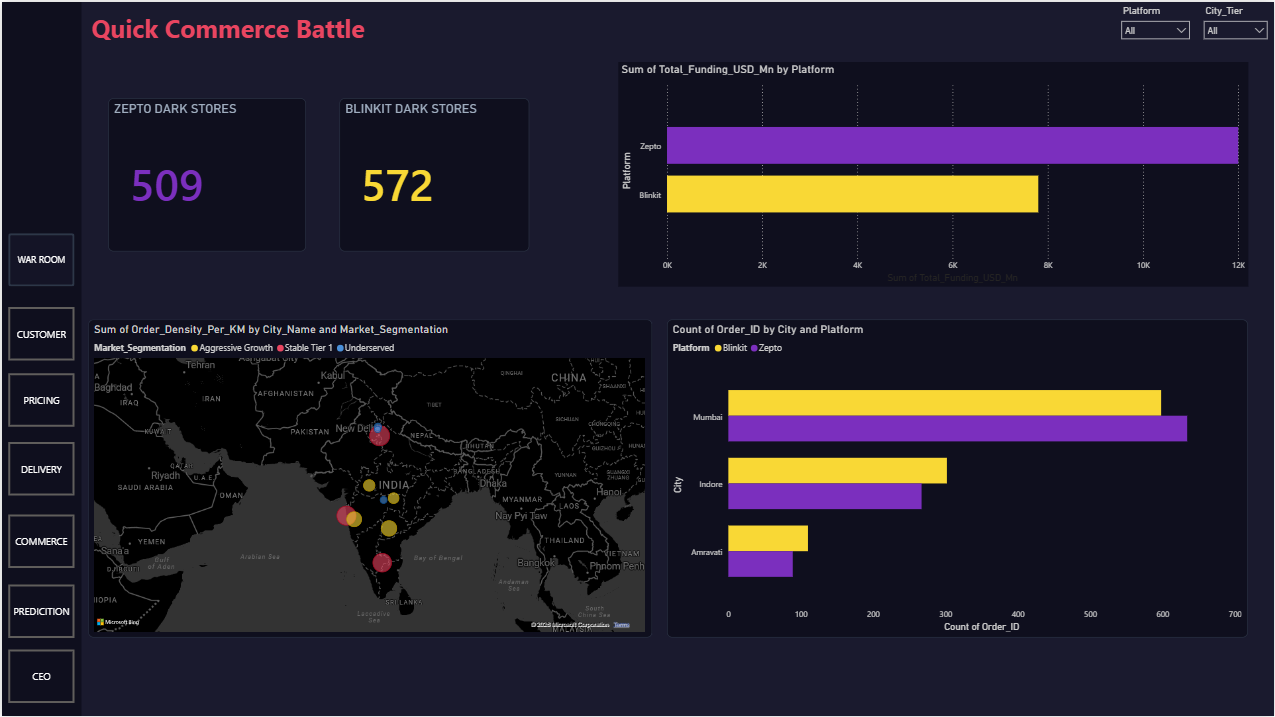

This screenshot's page, from the dashboard's own definition file:
{"tool":"powerbi","page":{"name":"05 Quick Commerce Battle","canvas":[1920,1080],"ordinal":4},"visuals":[{"type":"shape","box":[0,0,120,1080],"z":0},{"type":"slicer","fields":{"Values":["3_delivery_ops_cleaned.City_Tier"]},"box":[1803.3,0,116.7,66.7],"z":1000},{"type":"slicer","fields":{"Values":["3_delivery_ops_cleaned.Platform"]},"box":[1680,0,123.3,66.7],"z":2000},{"type":"textbox","box":[129.4,9.8,800,80.4],"z":3000},{"type":"cardVisual","title":"ZEPTO DARK STORES","fields":{"Data":["Sum(4_company_growth.Dark_Stores_Count)"]},"box":[160.8,145.1,298,231.4],"z":4000},{"type":"cardVisual","title":"BLINKIT DARK STORES","fields":{"Data":["Sum(4_company_growth.Dark_Stores_Count)"]},"box":[509.8,145.1,286.3,231.4],"z":5000},{"type":"clusteredBarChart","fields":{"Category":["4_company_growth.Platform"],"Y":["Sum(4_company_growth.Total_Funding_USD_Mn)"]},"box":[929.4,90.2,951,339.2],"z":8000},{"type":"map","fields":{"Category":["phase5_city_clusters.City_Name"],"Size":["Sum(phase5_city_clusters.Order_Density_Per_KM)"],"Series":["phase5_city_clusters.Market_Segmentation"]},"box":[129.4,478.4,851,480.4],"z":9000},{"type":"clusteredBarChart","fields":{"Category":["3_delivery_ops_cleaned.City"],"Series":["3_delivery_ops_cleaned.Platform"],"Y":["CountNonNull(3_delivery_ops_cleaned.Order_ID)"]},"box":[1003.9,478.4,876.5,480.4],"z":10000},{"type":"actionButton","box":[9.6,459.6,100,80.8],"z":11000},{"type":"actionButton","box":[9.6,559.6,100,80.8],"z":12000},{"type":"actionButton","box":[9.6,663.5,100,80.8],"z":13000},{"type":"actionButton","box":[9.6,773.1,100,80.8],"z":14000},{"type":"actionButton","box":[9.6,878.8,100,80.8],"z":15000},{"type":"actionButton","box":[9.6,976.9,100,80.8],"z":16000},{"type":"actionButton","box":[9.8,349,100,80.4],"z":17000}]}

Visuals, with their boxes in screenshot pixels (x1, y1, x2, y2), scaled from the page's 1920x1080 canvas onto the 1275x717 screenshot:
shape: (x1=0, y1=0, x2=80, y2=716)
slicer - 3_delivery_ops_cleaned.City_Tier: (x1=1198, y1=0, x2=1274, y2=44)
slicer - 3_delivery_ops_cleaned.Platform: (x1=1116, y1=0, x2=1198, y2=44)
textbox: (x1=86, y1=7, x2=617, y2=60)
"ZEPTO DARK STORES" cardVisual: (x1=107, y1=96, x2=305, y2=250)
"BLINKIT DARK STORES" cardVisual: (x1=339, y1=96, x2=529, y2=250)
clusteredBarChart - 4_company_growth.Platform x Sum(4_company_growth.Total_Funding_USD_Mn): (x1=617, y1=60, x2=1249, y2=285)
map - phase5_city_clusters.City_Name x Sum(phase5_city_clusters.Order_Density_Per_KM): (x1=86, y1=318, x2=651, y2=637)
clusteredBarChart - 3_delivery_ops_cleaned.City x 3_delivery_ops_cleaned.Platform: (x1=667, y1=318, x2=1249, y2=637)
actionButton: (x1=6, y1=305, x2=73, y2=359)
actionButton: (x1=6, y1=372, x2=73, y2=425)
actionButton: (x1=6, y1=440, x2=73, y2=494)
actionButton: (x1=6, y1=513, x2=73, y2=567)
actionButton: (x1=6, y1=583, x2=73, y2=637)
actionButton: (x1=6, y1=649, x2=73, y2=702)
actionButton: (x1=7, y1=232, x2=73, y2=285)
